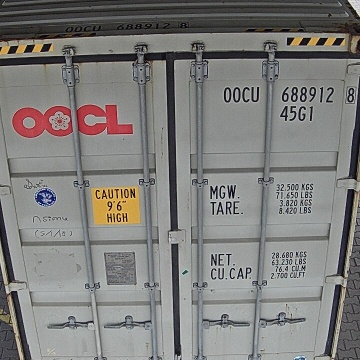serial_id: (224, 86, 356, 102)
